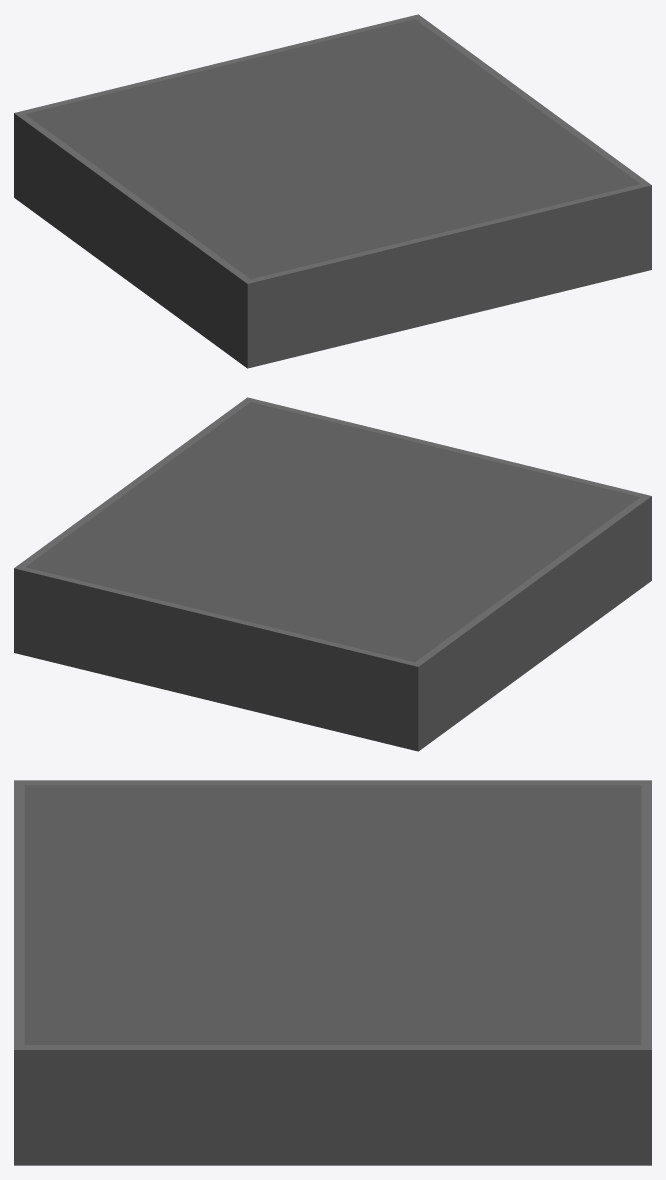
Rendered from ConcrateSlabs_B_4_1.fbx.
The picture shows the model from 3 angles, top to bottom: view 1: azimuth 30°, elevation 25°; view 2: azimuth 150°, elevation 25°; view 3: azimuth 270°, elevation 25°; orthographic projection. The views are drawn at different scales.
Visible parts, largest first — view 1: ConcrateSlabs_B_4_1; view 2: ConcrateSlabs_B_4_1; view 3: ConcrateSlabs_B_4_1.
Part boxes in pixels (x1,y1,x2,y2): ConcrateSlabs_B_4_1: (14,14,651,368); ConcrateSlabs_B_4_1: (14,397,651,751); ConcrateSlabs_B_4_1: (14,780,651,1165).
Size of the model in its own units: 200 by 40 by 200.
